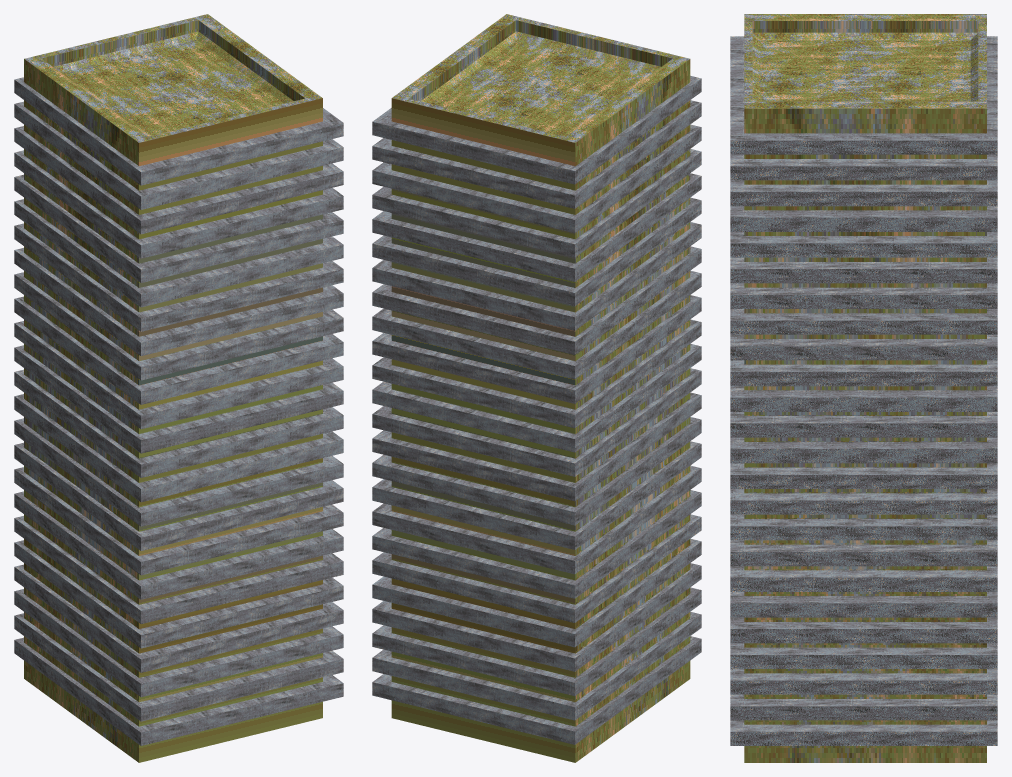
Rendered from ruin_building1.glb.
The picture shows the model from 3 angles, left to right: view 1: azimuth 30°, elevation 25°; view 2: azimuth 150°, elevation 25°; view 3: azimuth 270°, elevation 25°; orthographic projection. The views are drawn at different scales.
Visible parts, largest first — view 1: pCube116; view 2: pCube116; view 3: pCube116.
Boxes of the visible parts, box(x1,y1,x2,y2) form: pCube116: box(14, 14, 343, 762); pCube116: box(372, 14, 701, 762); pCube116: box(730, 14, 997, 762).
Bounding box in the file's own units: 12.72 × 37.2 × 13.78.
2 materials, 2 textured.
